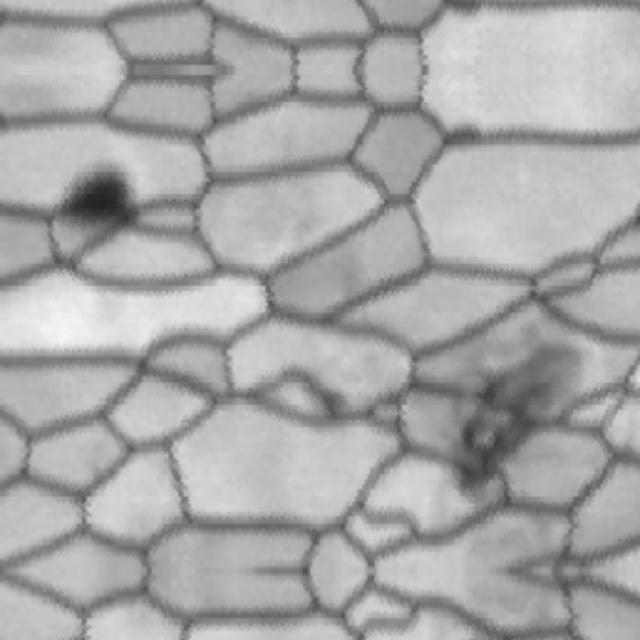good_void: (451, 340, 587, 499), (48, 161, 144, 228)
